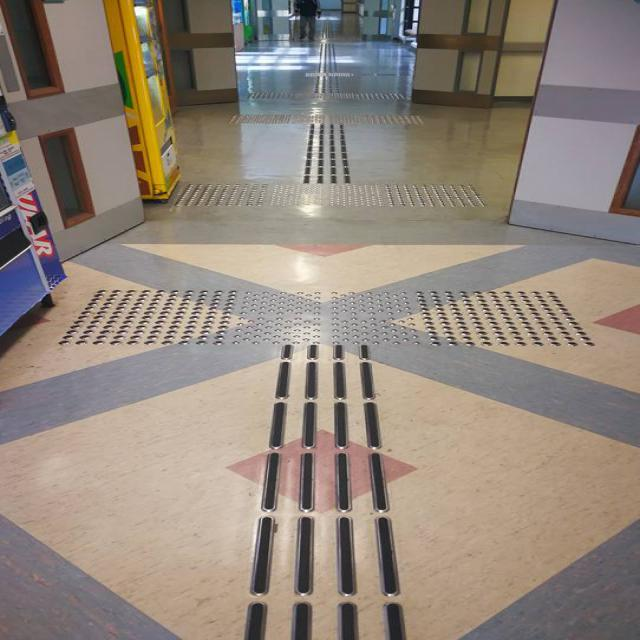tactile-guide-path: (240, 343, 410, 640), (60, 289, 594, 345), (172, 184, 496, 210), (301, 124, 354, 184), (230, 115, 428, 126)
